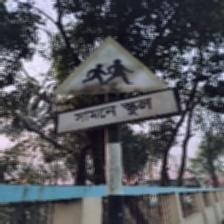School-in-front: (53, 36, 178, 136)
